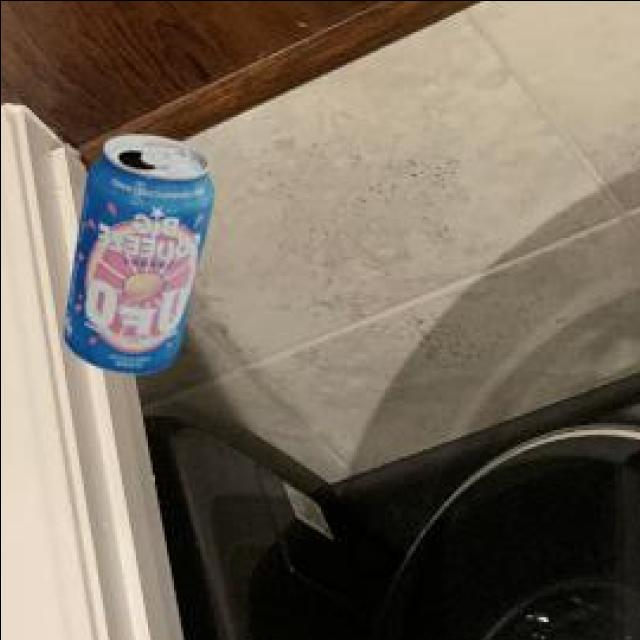logam: (60, 139, 210, 376)
